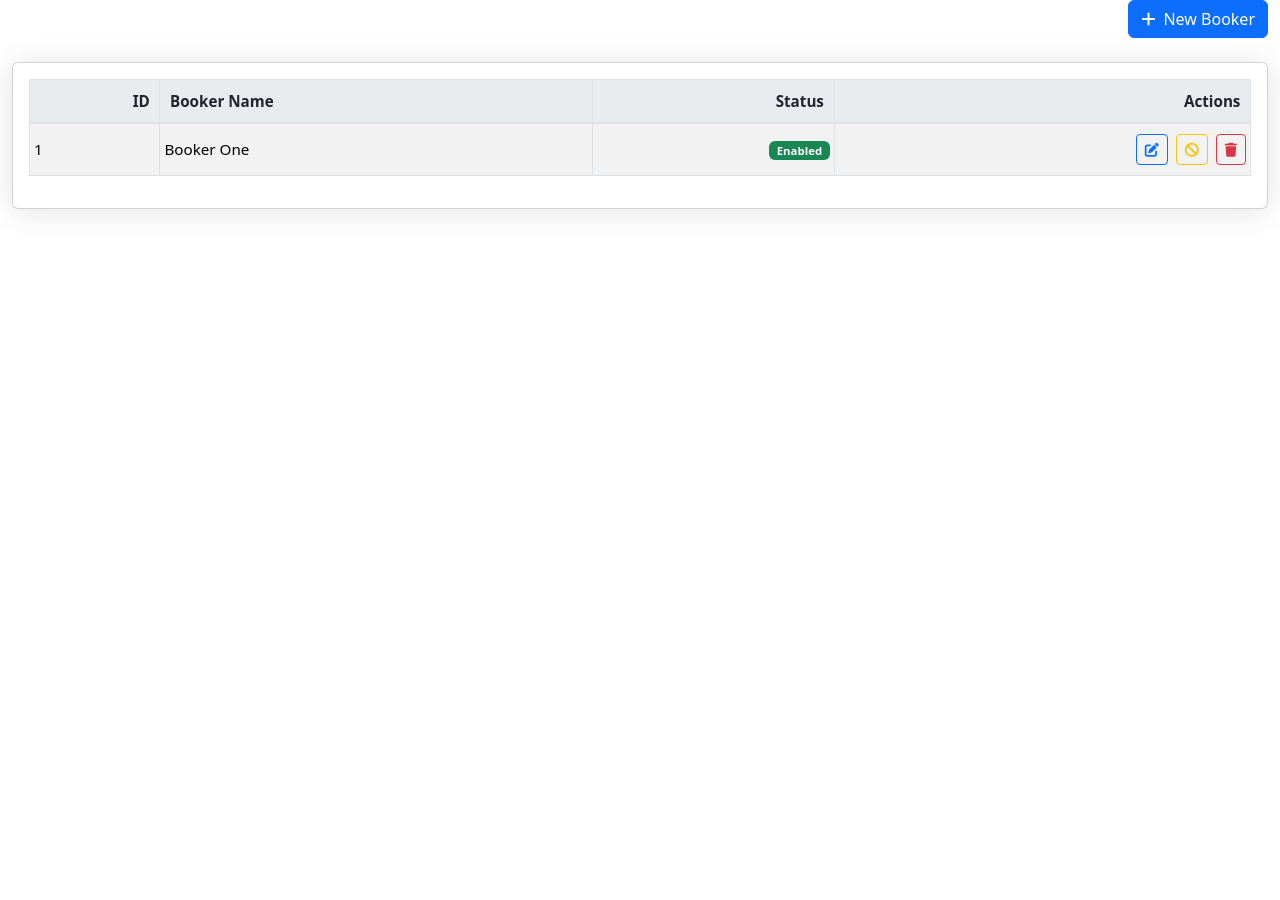
Scenario: Bookers dialogs › shows a failed save inside the dialog and keeps it open
Click the button "New Booker" at (1198, 19), box [1128,0,1268,38]
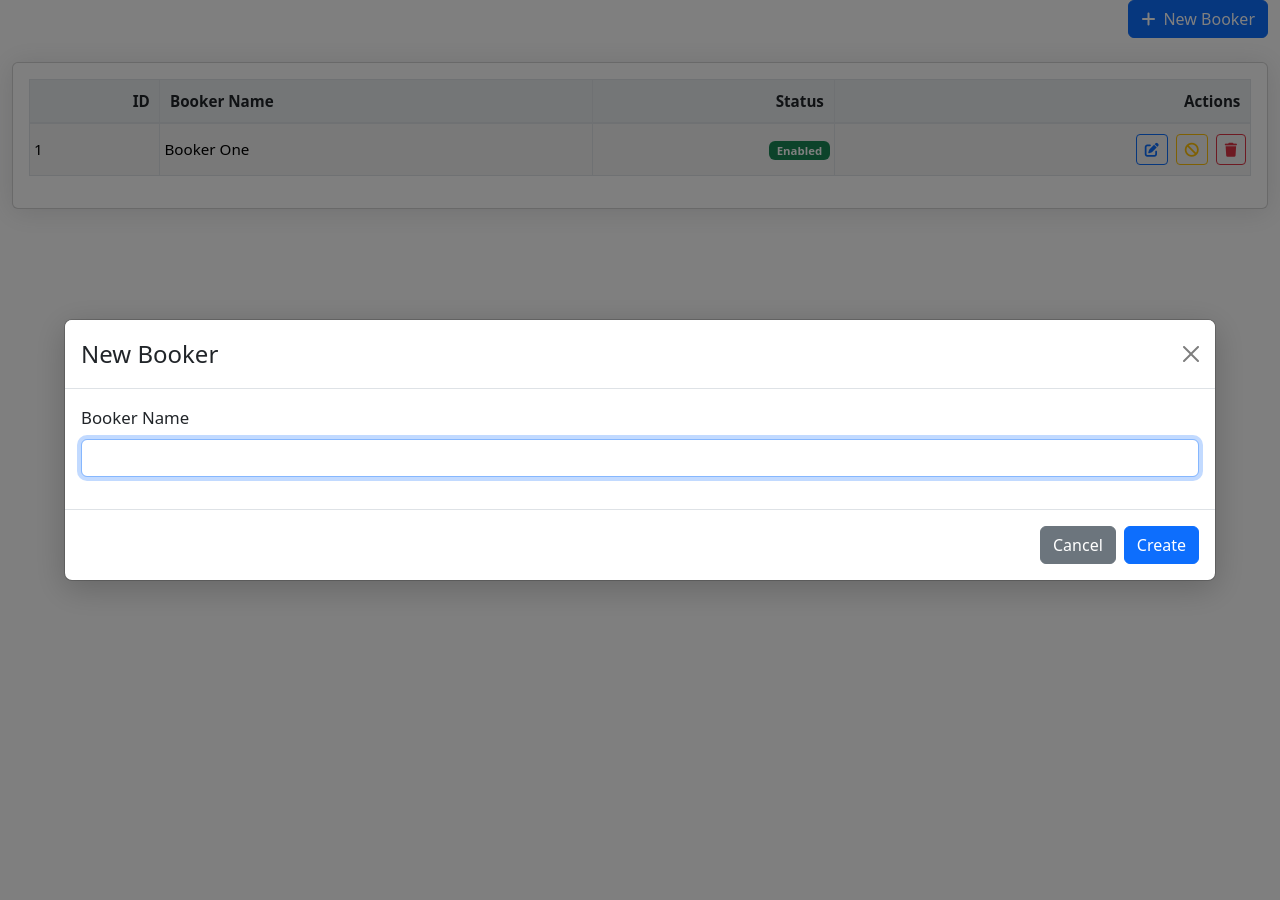
Type "Booker One" into the field at (640, 458), box [81,439,1199,477]
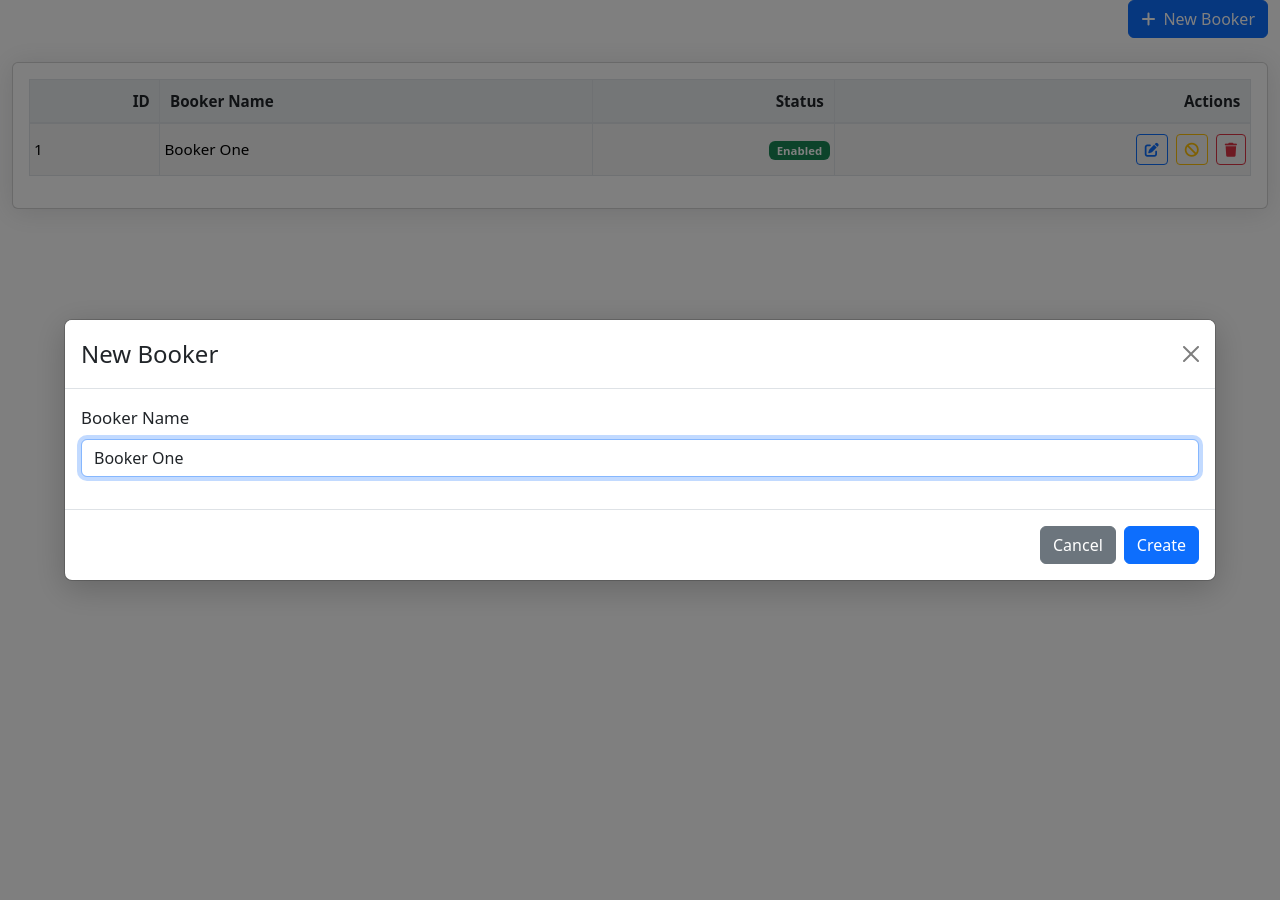
Click the button "Create" at (1161, 545), box [1124,526,1199,564]
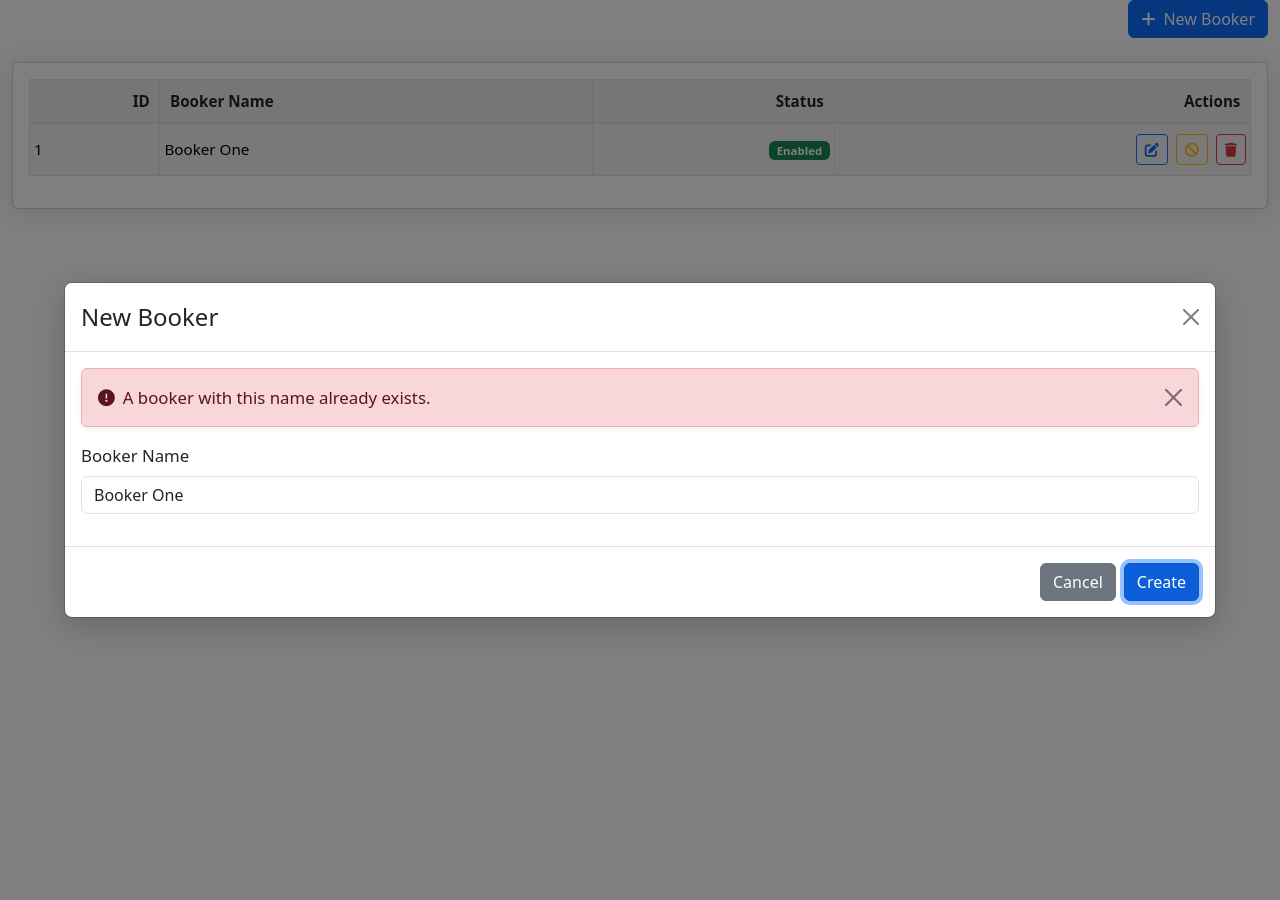
Result: the dialog is shown at [64,282,1216,618]
Result: the text "A booker with this name already exists." is shown at [81,368,1199,427]
